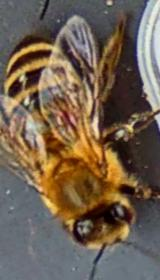varroa_mite: (46, 104, 88, 134)
